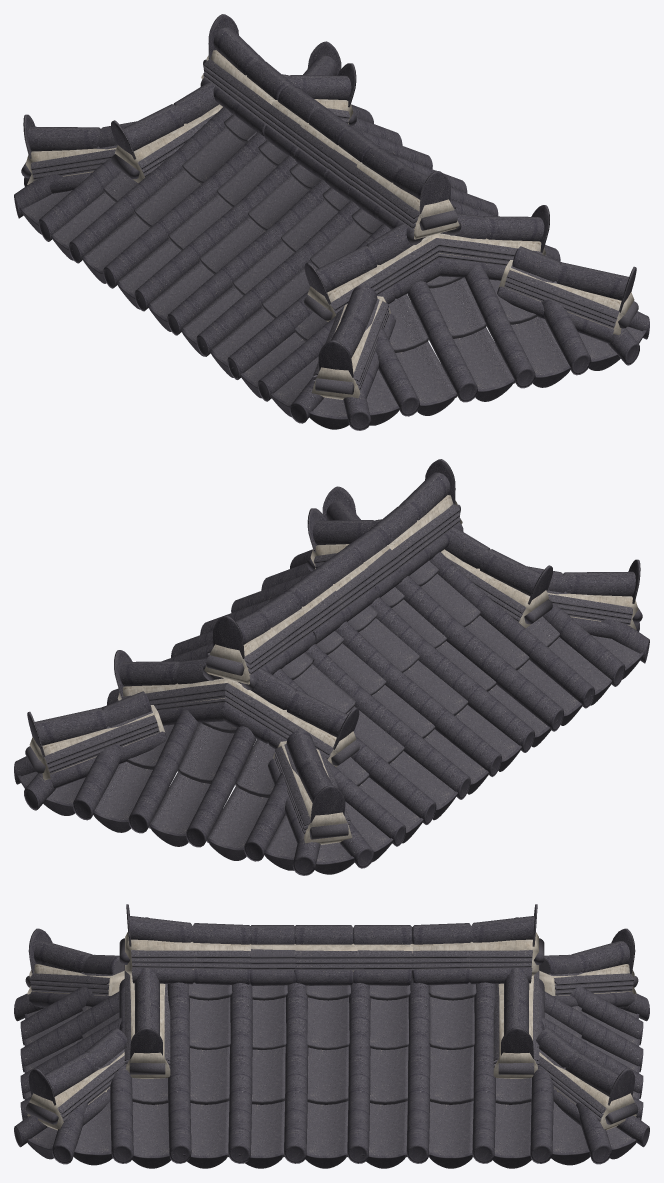
The model's file is SM_Roof_42.fbx.
3 renders of one model, top to bottom at view 1: azimuth 30°, elevation 25°; view 2: azimuth 150°, elevation 25°; view 3: azimuth 270°, elevation 25°, orthographic. The views are drawn at different scales.
Parts seen in each view (by area): view 1: SM_Roof_42; view 2: SM_Roof_42; view 3: SM_Roof_42.
Boxes of the visible parts, box(x1,y1,x2,y2) form: SM_Roof_42: box(14, 14, 649, 430); SM_Roof_42: box(14, 459, 649, 875); SM_Roof_42: box(14, 904, 649, 1168).
Bounding box in the file's own units: 249 × 402 × 130.
2 materials, 2 textured.
